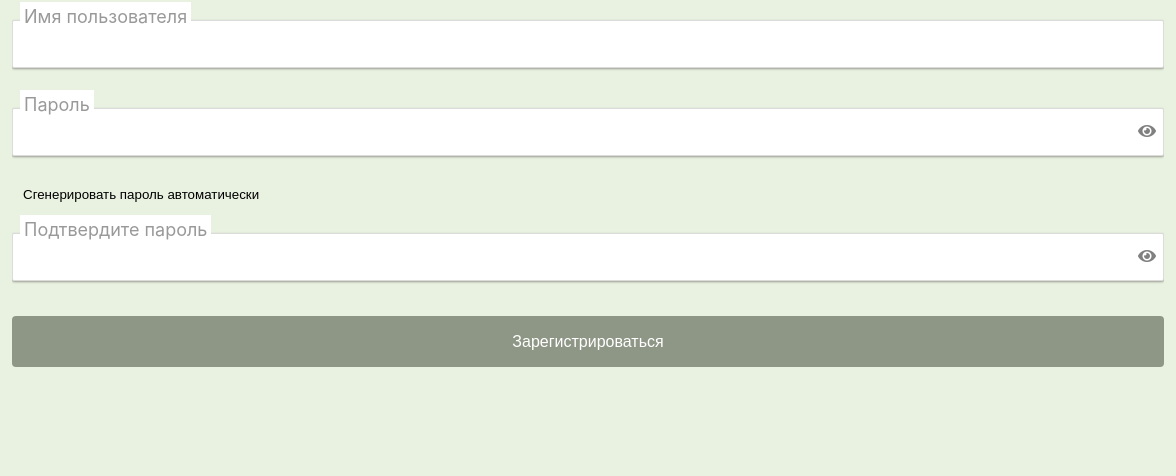
Test: SignupFormContainer › changes button state depending on component's state
The width and height of the screenshot is (1176, 476).
Expected: the submit button is disabled, [12,316,1164,367]
Type "test" into the field labelled "Имя пользователя" at coordinates (588, 44), box [12,20,1164,68]
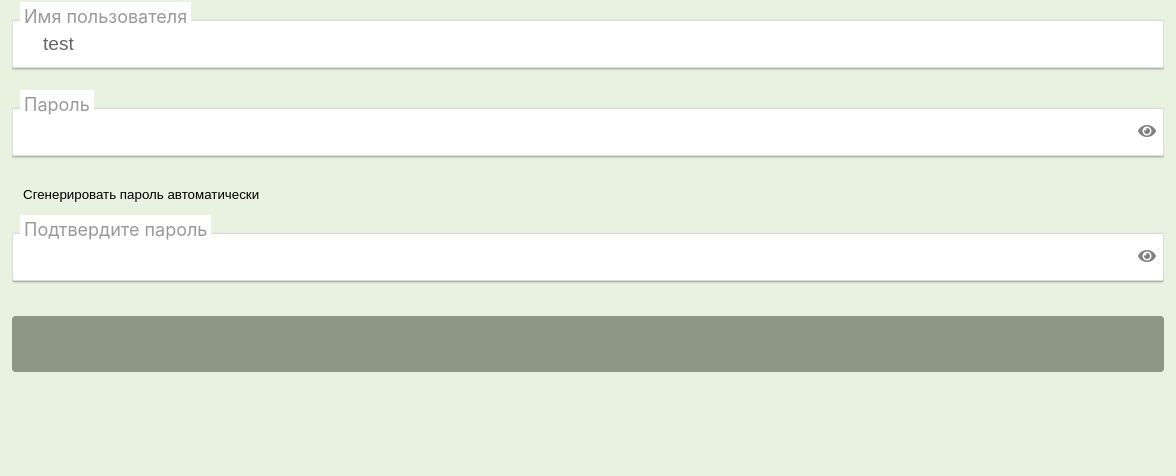
Type "12345678" into the password field named "password" at coordinates (588, 132), box [12,108,1164,156]
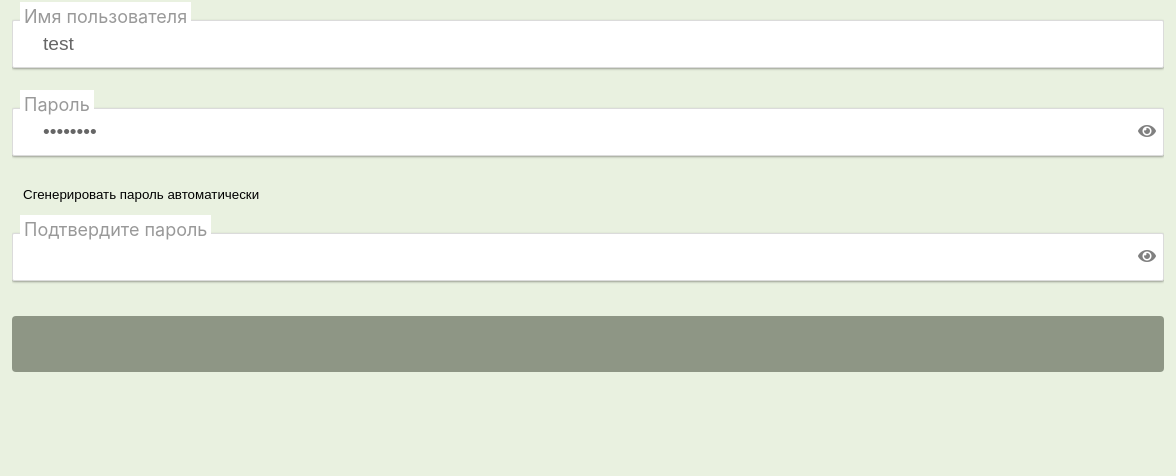
Type "12345678" into the password field named "confirmPassword" at coordinates (588, 257), box [12,233,1164,281]
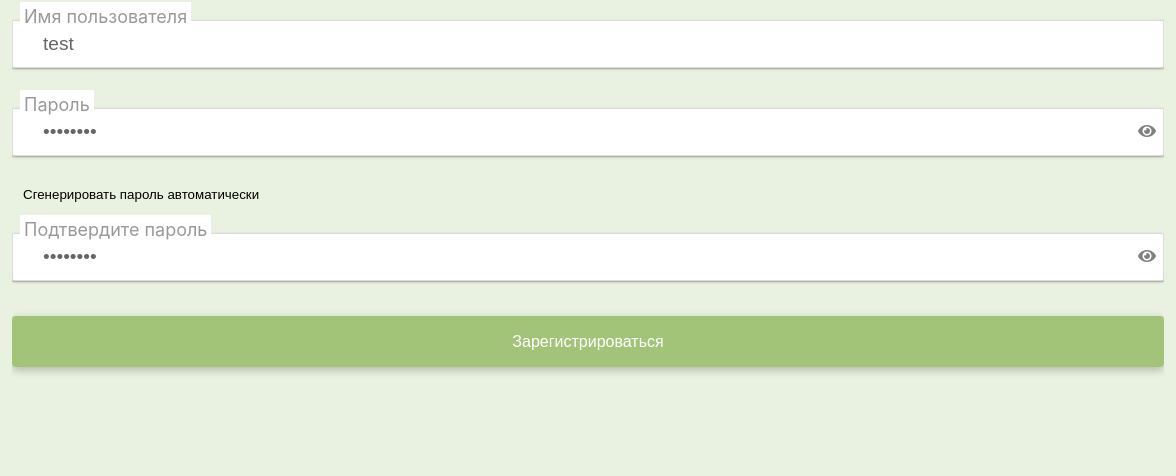
Expected: the submit button is enabled, [12,316,1164,367]
Type "1234567" into the password field named "password" at coordinates (588, 132), box [12,108,1164,156]
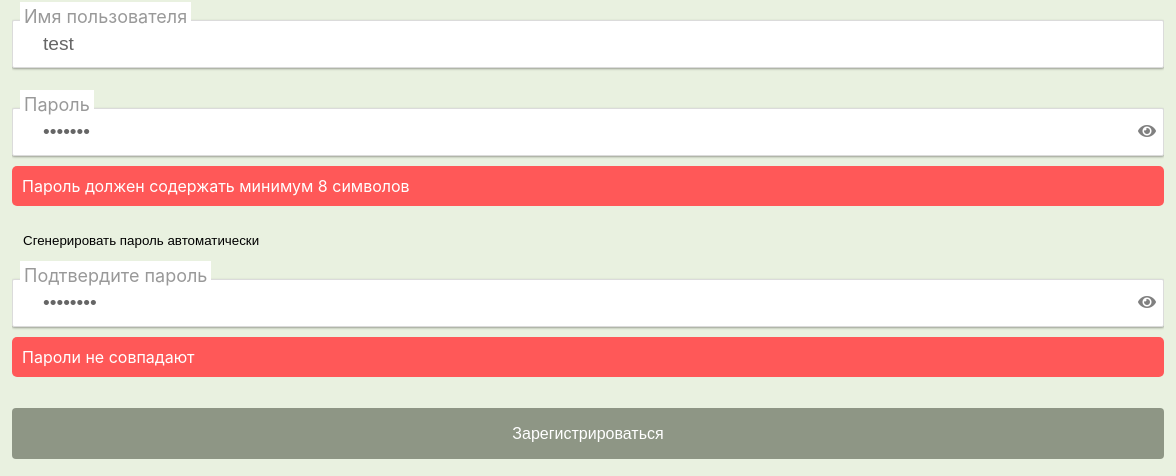
Expected: the submit button is disabled, [12,408,1164,459]
